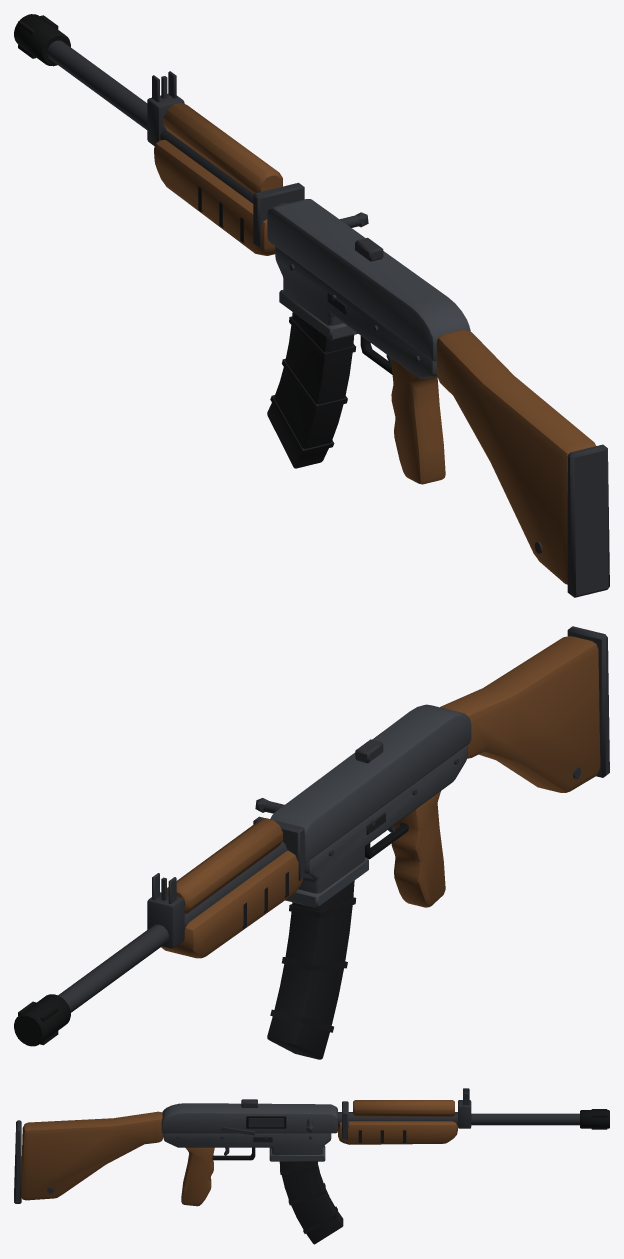
The model's file is gun_04.glb.
3 renders of one model, top to bottom at view 1: azimuth 30°, elevation 25°; view 2: azimuth 150°, elevation 25°; view 3: azimuth 270°, elevation 25°, orthographic. The views are drawn at different scales.
Parts seen in each view (by area): view 1: gun_04; view 2: gun_04; view 3: gun_04.
Boxes of the visible parts, x1=… form: gun_04: x1=14, y1=14, x2=609, y2=597; gun_04: x1=14, y1=626, x2=609, y2=1059; gun_04: x1=14, y1=1088, x2=609, y2=1244.
Size of the model in its own units: 0.0871 by 0.2993 by 1.07.
